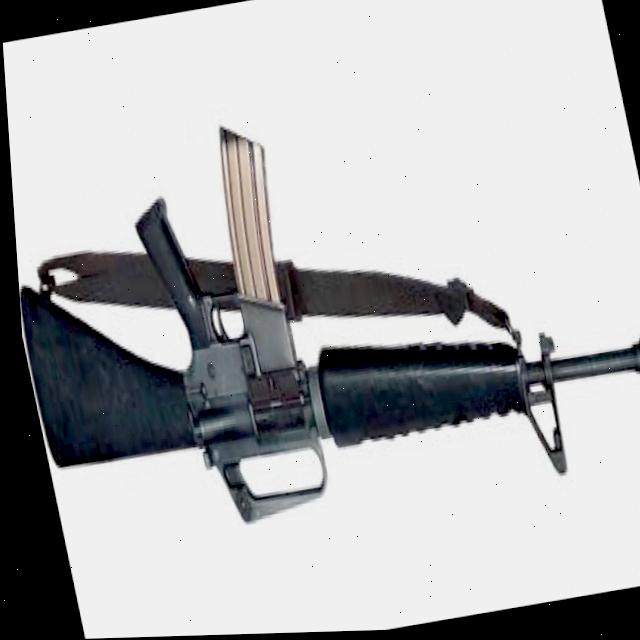firearm: (4, 61, 640, 559)
